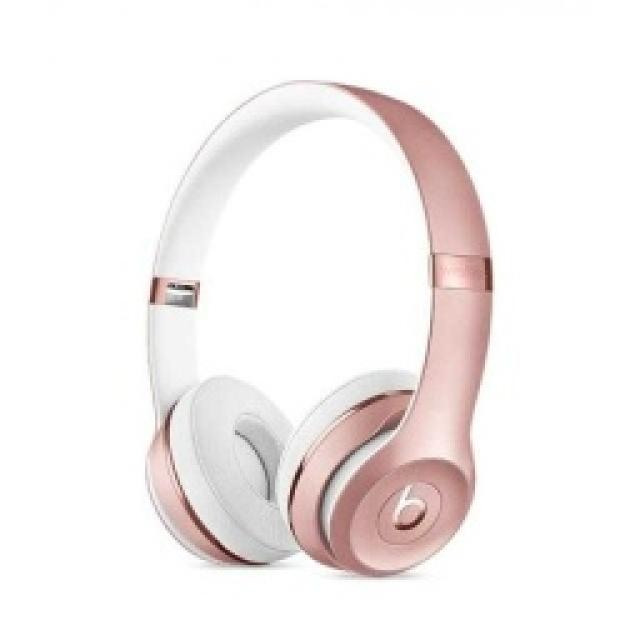headphones: (142, 75, 492, 575)
